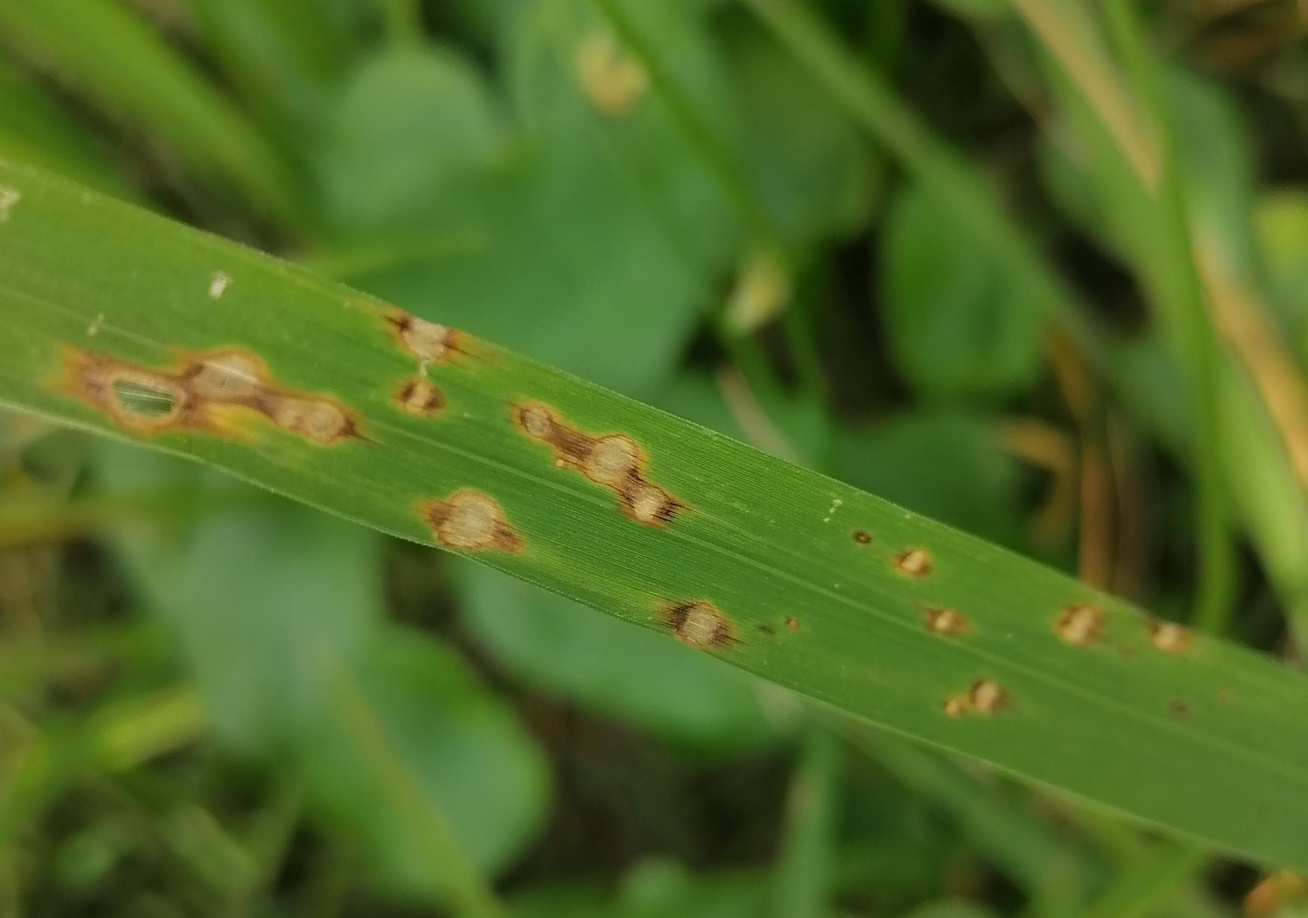Brown spot: (70, 294, 361, 477), (515, 388, 707, 534), (391, 310, 458, 429), (426, 469, 496, 547), (682, 596, 761, 658), (936, 672, 1001, 739), (1060, 596, 1114, 655), (1152, 618, 1195, 674), (922, 599, 968, 647), (890, 526, 933, 572)
